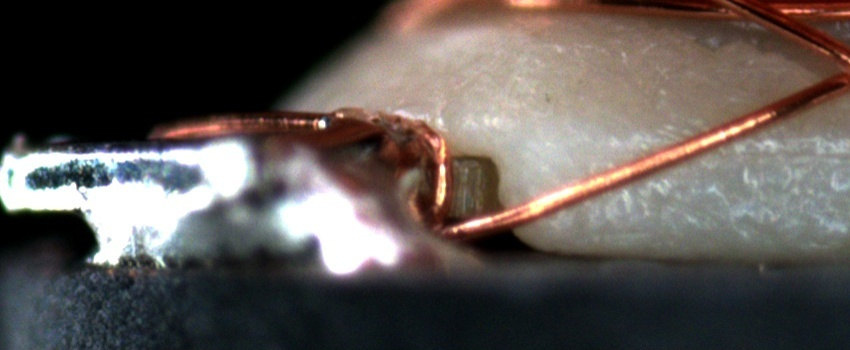CL: (803, 40, 850, 102)
DL: (586, 117, 850, 181)
TE: (147, 105, 459, 229)
